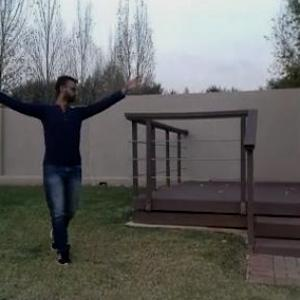takeoff: (0, 74, 143, 262)
